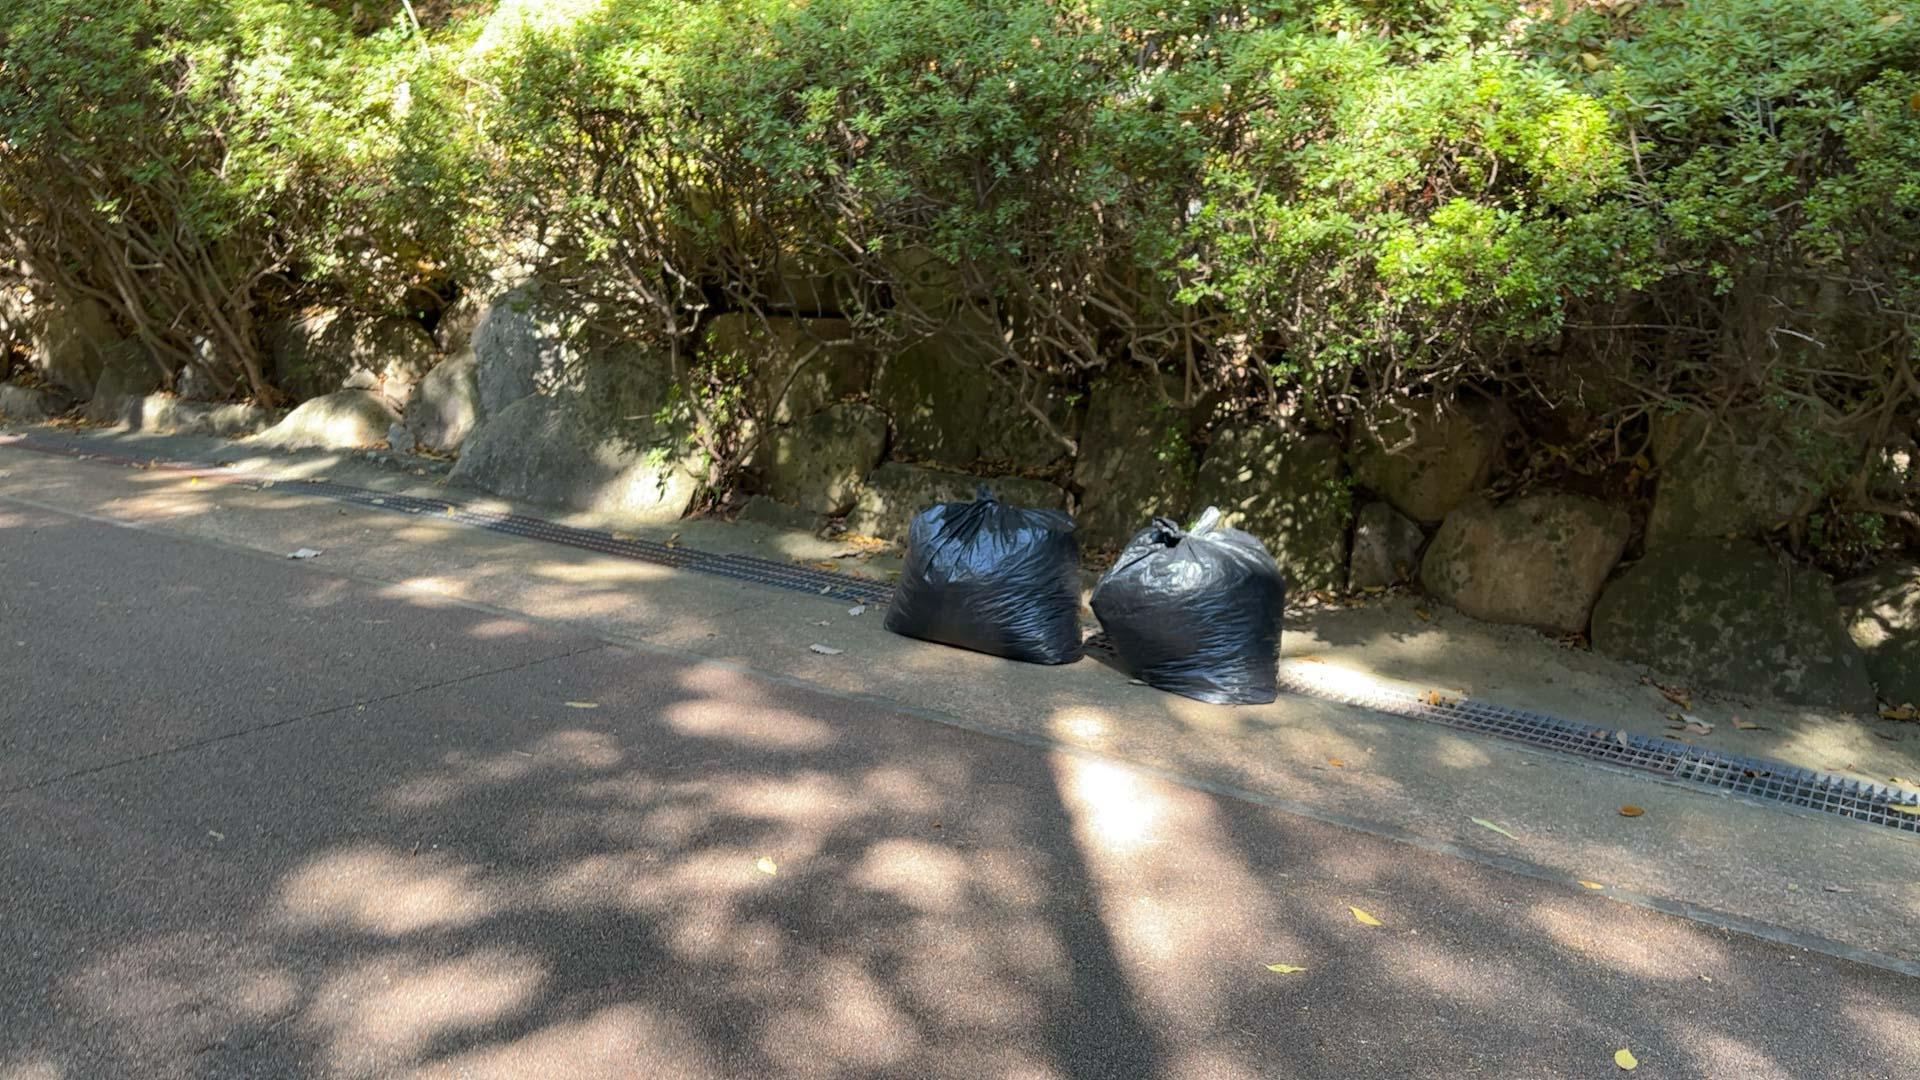black_bag: (1073, 506, 1298, 713), (877, 489, 1097, 675)
